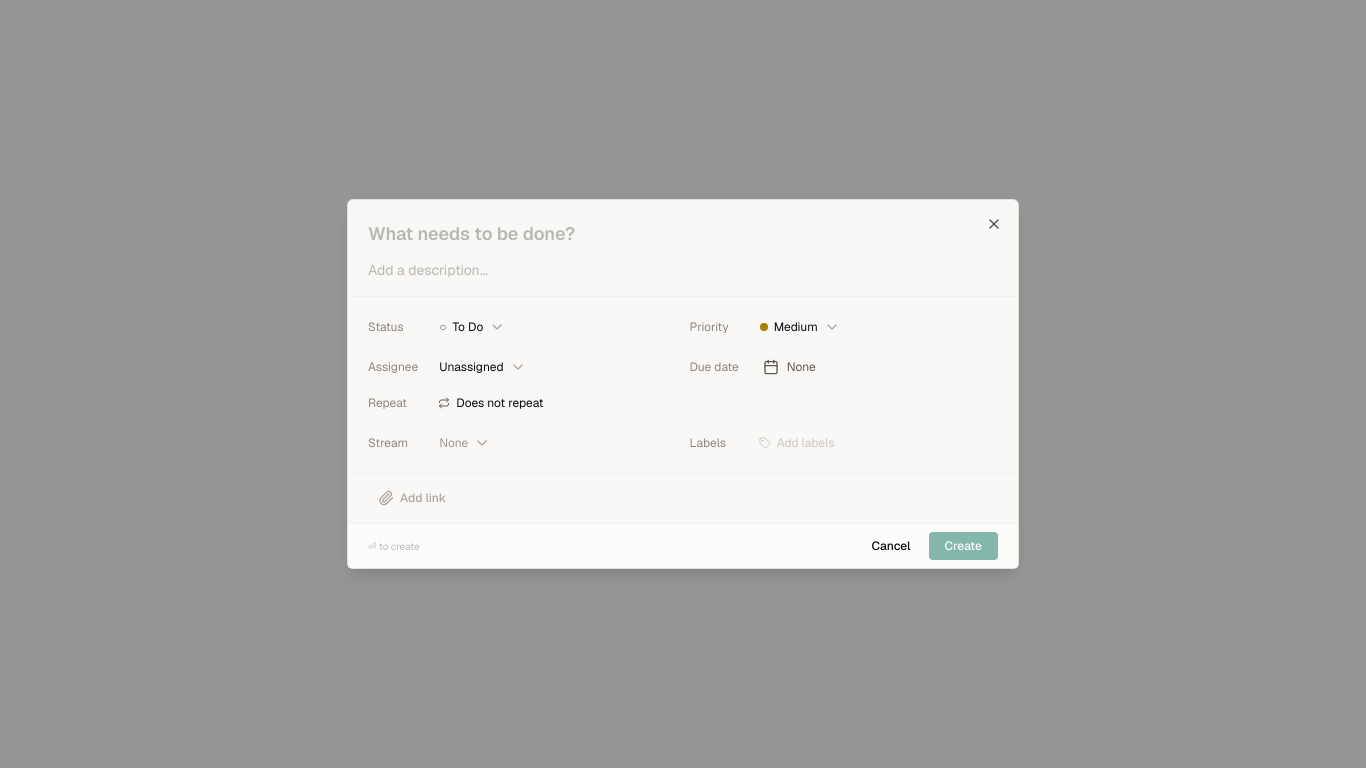
it: TaskForm › enables Create button when title is entered
Type "New task title" into the text box with placeholder "What needs to be done?" at (683, 234), box x1=368 y1=220 x2=998 y2=248
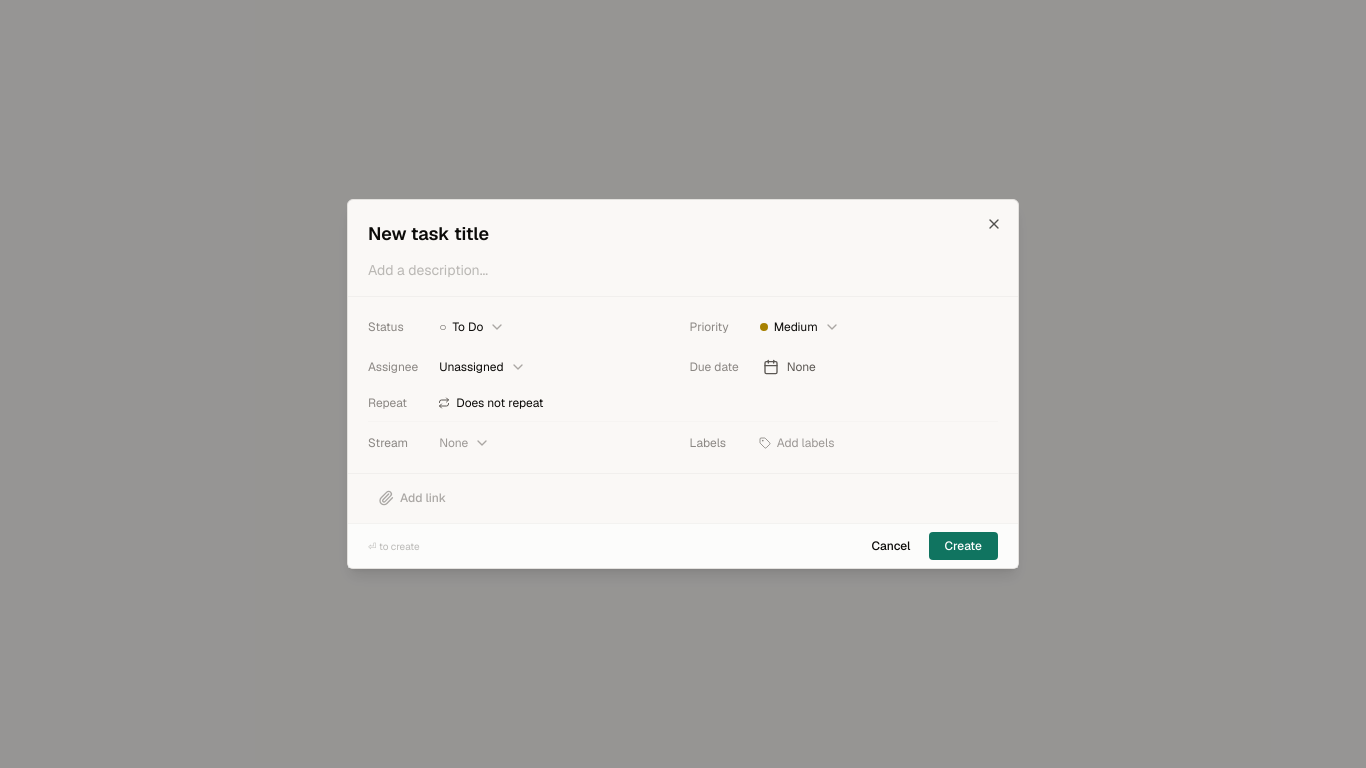
Check: the button "Create" is enabled, box x1=928 y1=532 x2=998 y2=560
